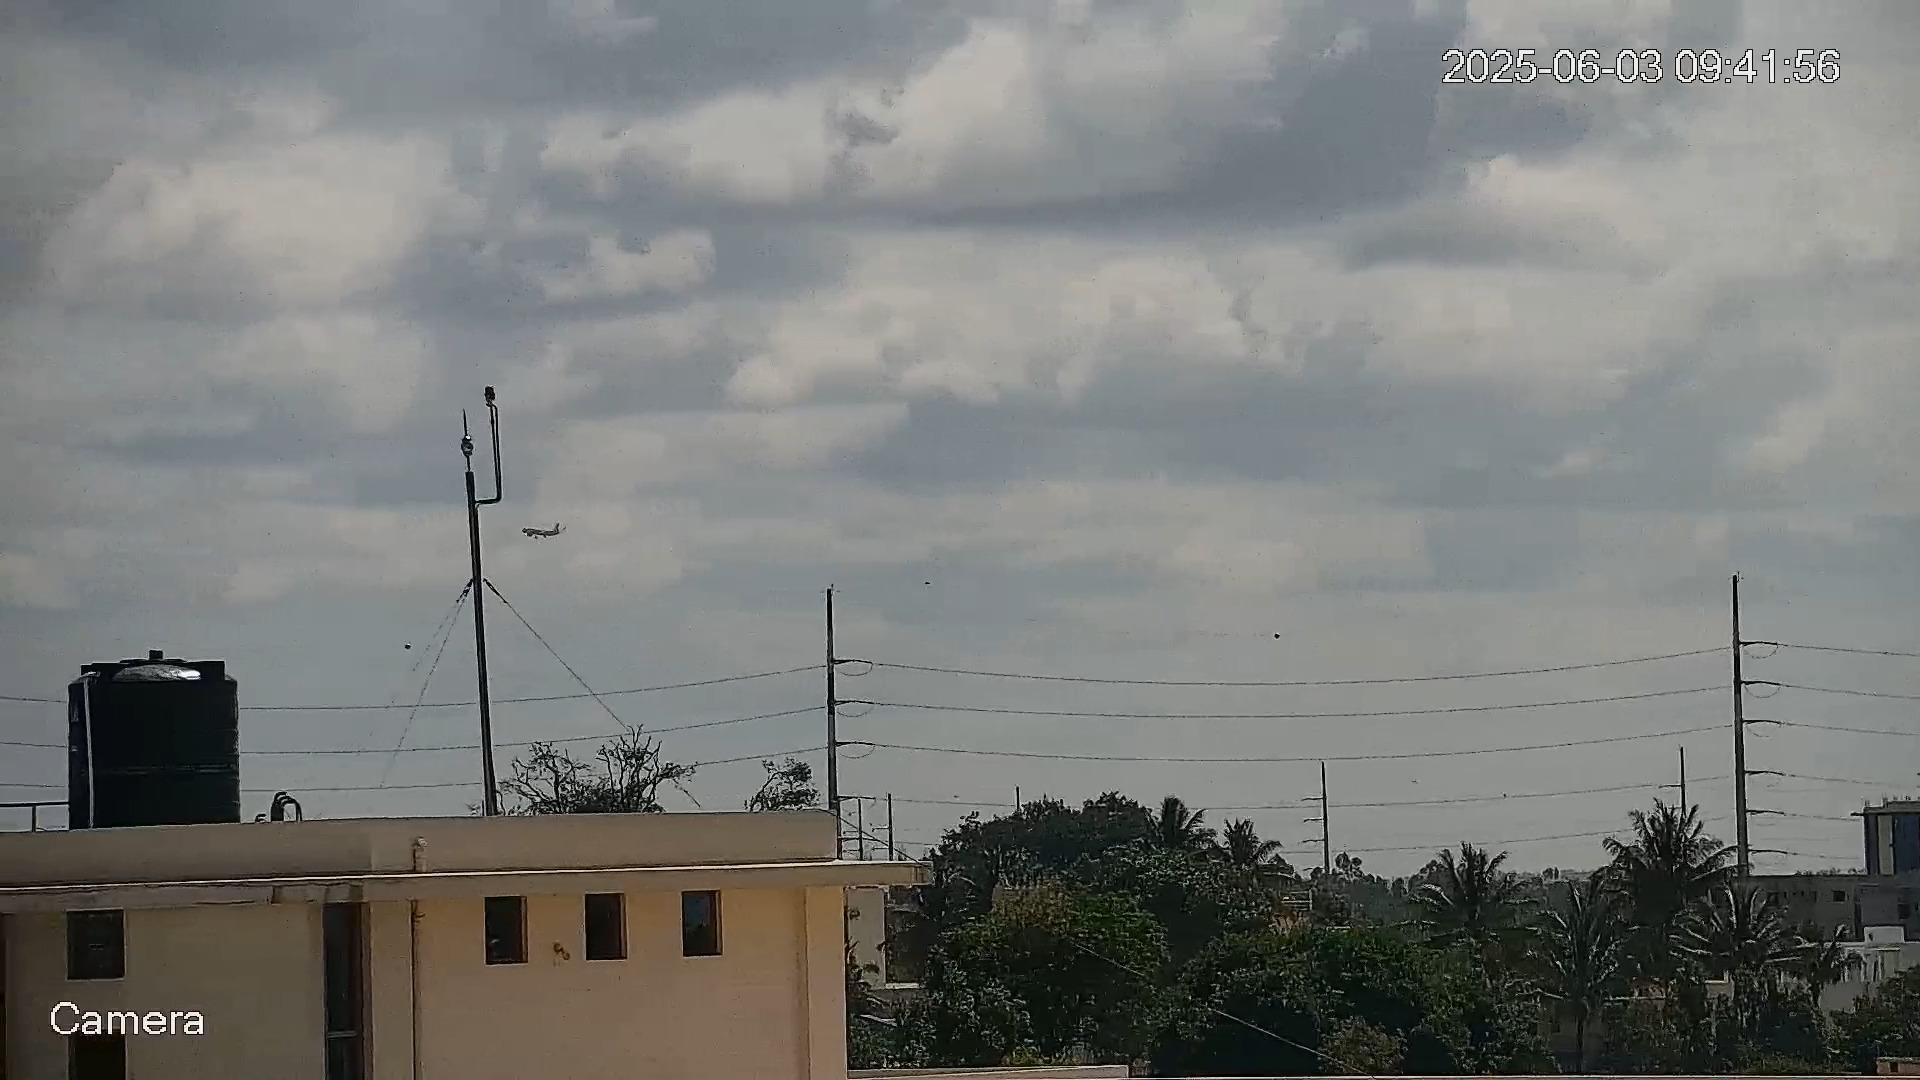Aircraft: (521, 520, 563, 541)
